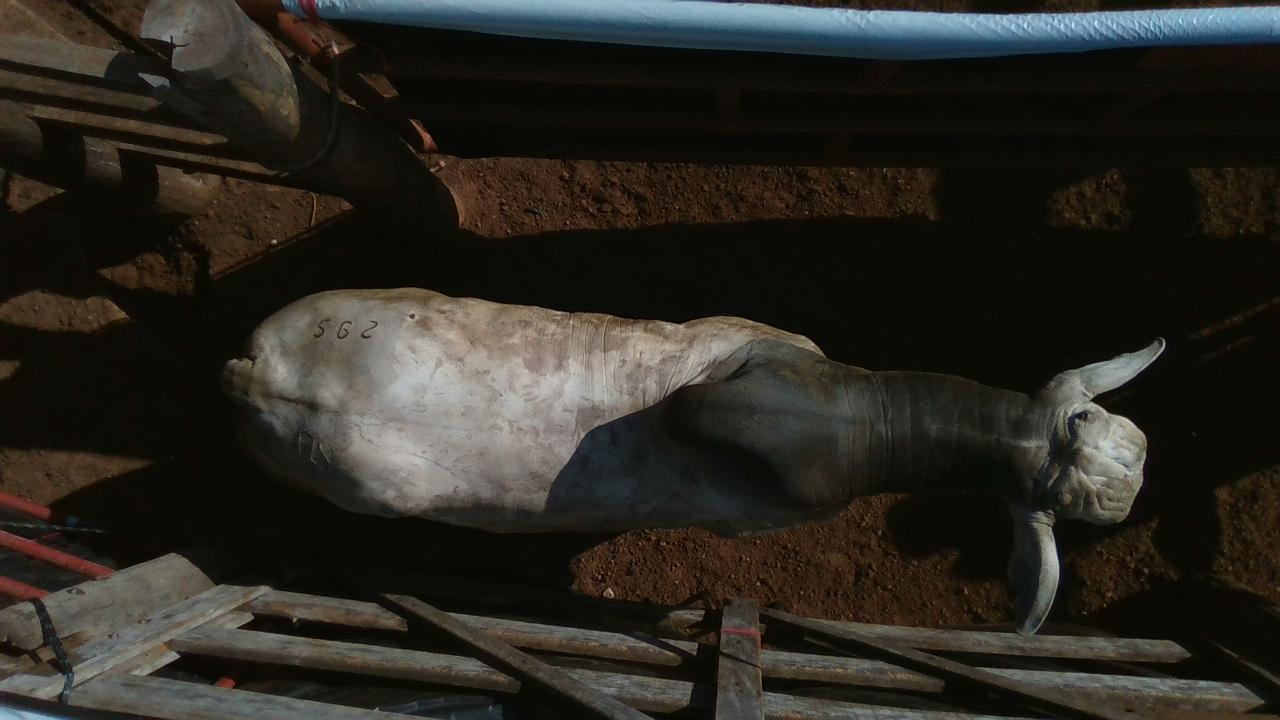cattle: (219, 284, 1167, 636)
